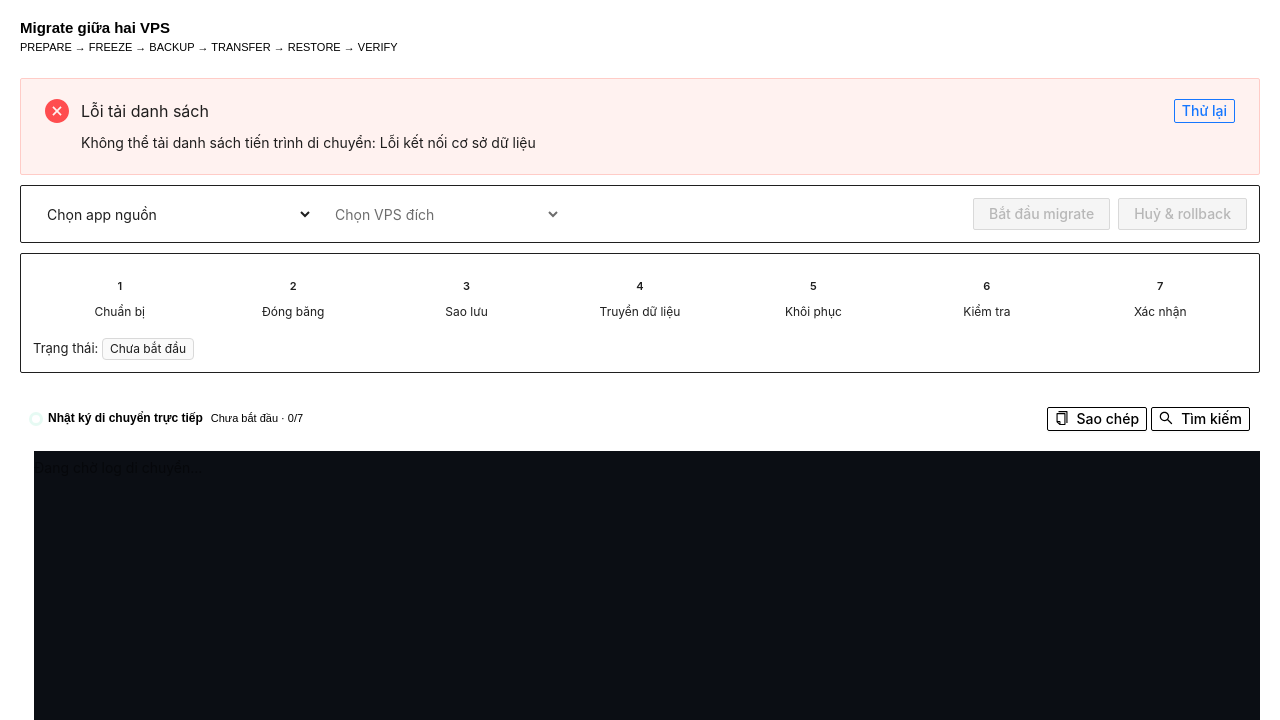
it: MigratePage UI-1j-a › phan biet loi tai danh sach voi danh sach rong va co nut thu lai
Expected: the text "Lỗi tải danh sách" is shown, left=81, top=101, right=209, bottom=121
Expected: the text "Lỗi kết nối cơ sở dữ liệu" is shown, left=81, top=134, right=536, bottom=151
Click the button "Thử lại" at (1204, 111), box left=1174, top=99, right=1235, bottom=123
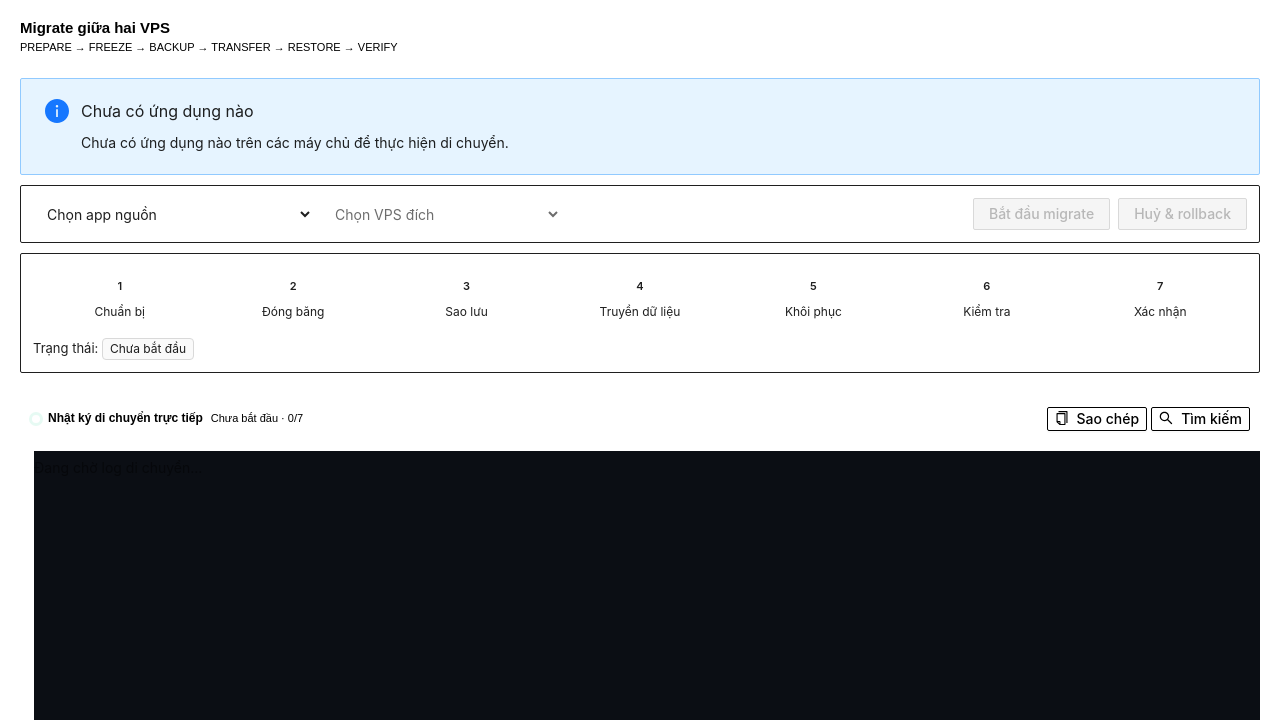
Now the text "Lỗi tải danh sách" is gone
Now the text "Chưa có ứng dụng nào" is shown, box left=81, top=101, right=254, bottom=121
